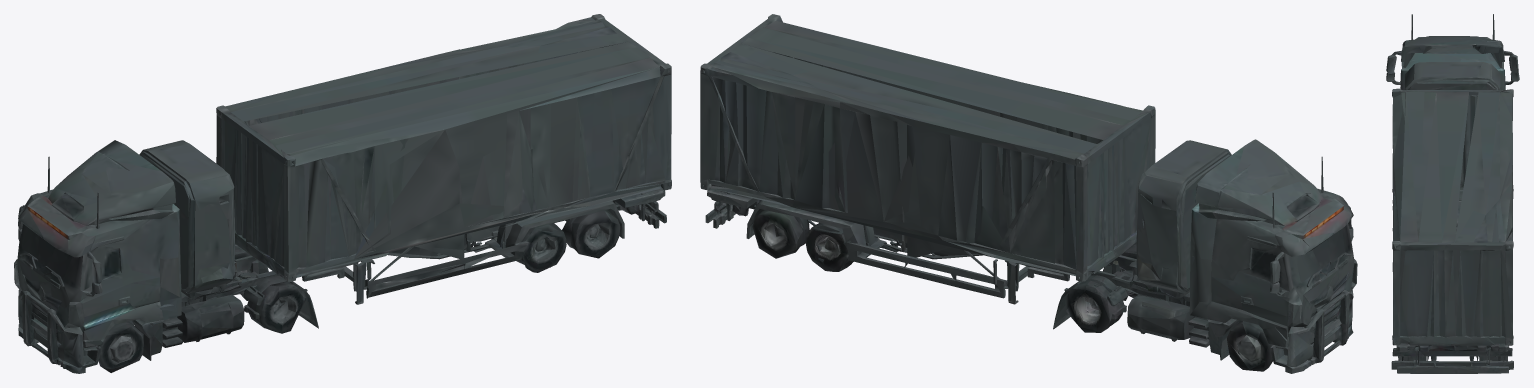
Rendered from mx_car_truck.glb.
The picture shows the model from 3 angles, left to right: view 1: azimuth 30°, elevation 25°; view 2: azimuth 150°, elevation 25°; view 3: azimuth 270°, elevation 25°; orthographic projection. The views are drawn at different scales.
Size of the model in its own units: 1.9 by 0.5559 by 0.4418.
Materials: 1 (1 with a texture image).
